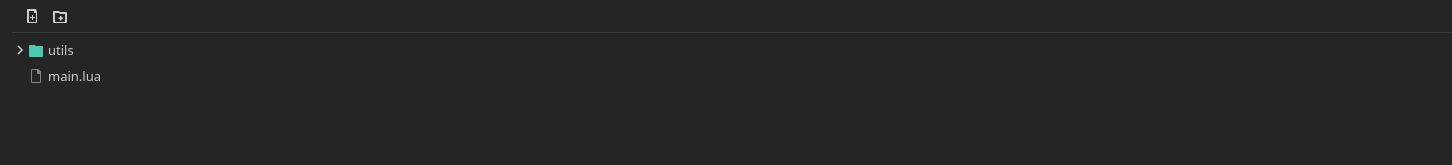
Test: FileExplorer › context menu › should open context menu on right-click
Right-click the list item "main.lua" at {"x": 64, "y": 76}, box [28,67,101,85]
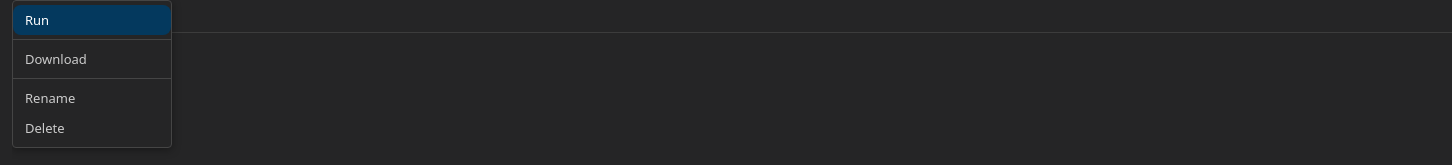
Result: the menu is shown at [12,0,172,148]
